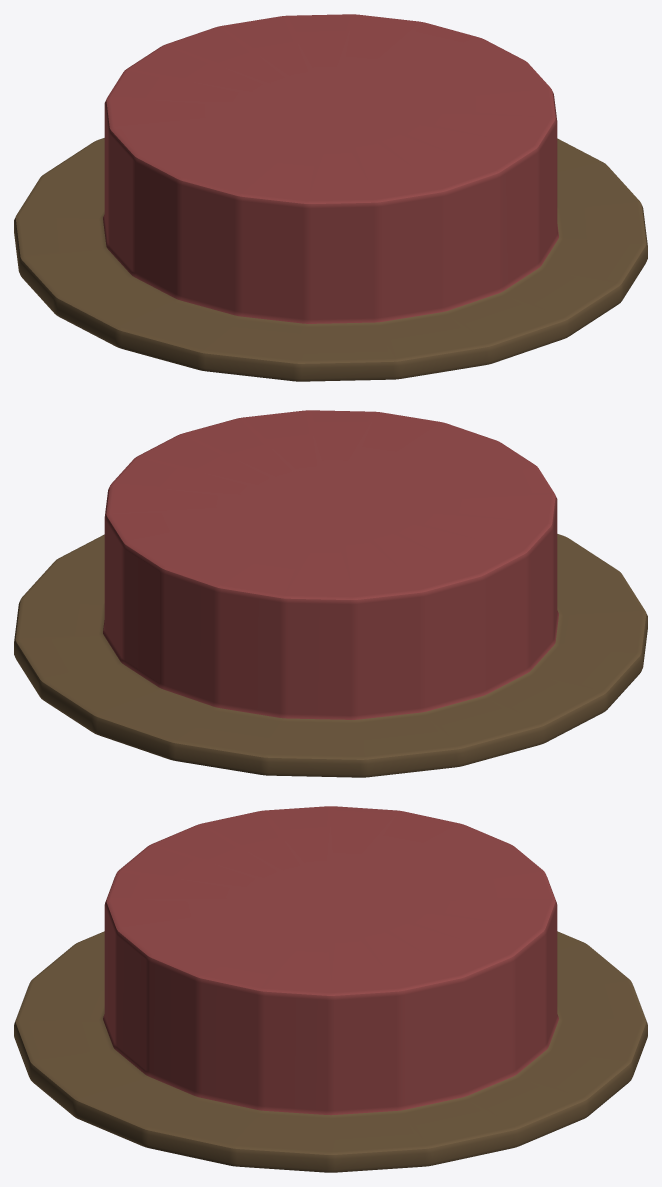
Rendered from Red Button.fbx.
The picture shows the model from 3 angles, top to bottom: view 1: azimuth 30°, elevation 25°; view 2: azimuth 150°, elevation 25°; view 3: azimuth 270°, elevation 25°; orthographic projection.
Visible parts, largest first — view 1: pCylinder1; view 2: pCylinder1; view 3: pCylinder1.
Boxes of the visible parts, x1,y1,x2,y2 form: pCylinder1: [14, 14, 647, 381]; pCylinder1: [14, 410, 647, 777]; pCylinder1: [14, 806, 647, 1172].
Size of the model in its own units: 16.96 by 4.18 by 16.96.
